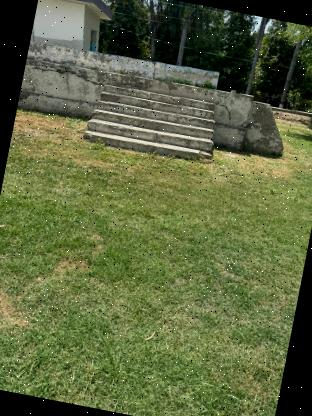stair: (81, 63, 226, 176)
